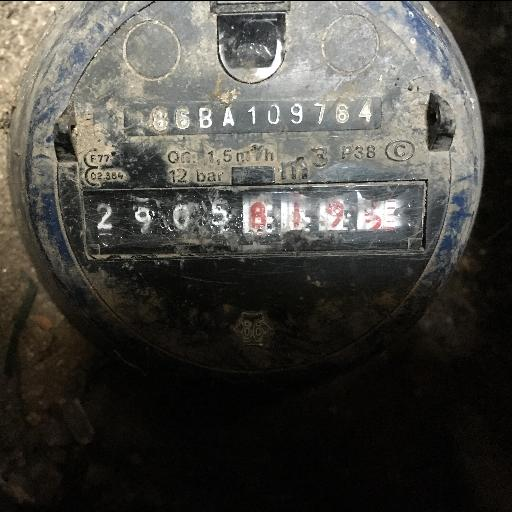0: (167, 198, 195, 237)
1: (280, 192, 310, 232)
2: (357, 190, 396, 230), (93, 198, 120, 238)
5: (204, 193, 235, 234)
8: (243, 193, 273, 234)
9: (129, 198, 161, 237), (321, 192, 349, 231)
border_water_meter_number: (85, 179, 430, 260)
